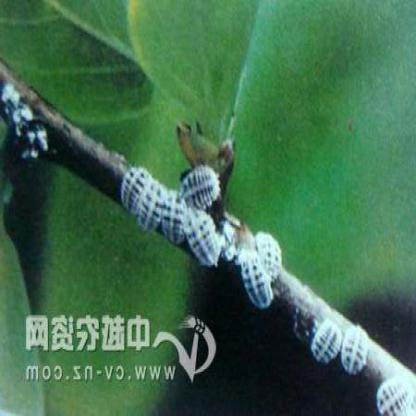mealy bug: (181, 205, 220, 264), (240, 249, 273, 307), (375, 370, 415, 415), (183, 165, 221, 207), (309, 319, 342, 360), (339, 325, 367, 373), (119, 163, 147, 210), (139, 181, 163, 231), (258, 236, 282, 285), (162, 186, 183, 242)
